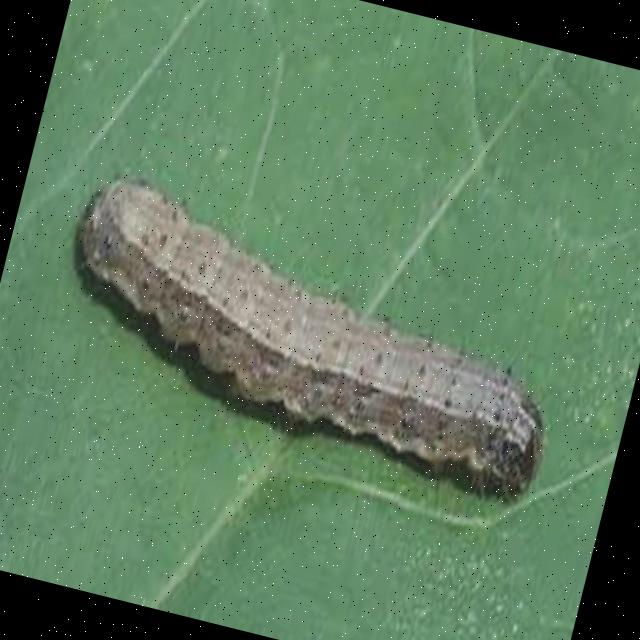worm: (37, 166, 587, 512)
